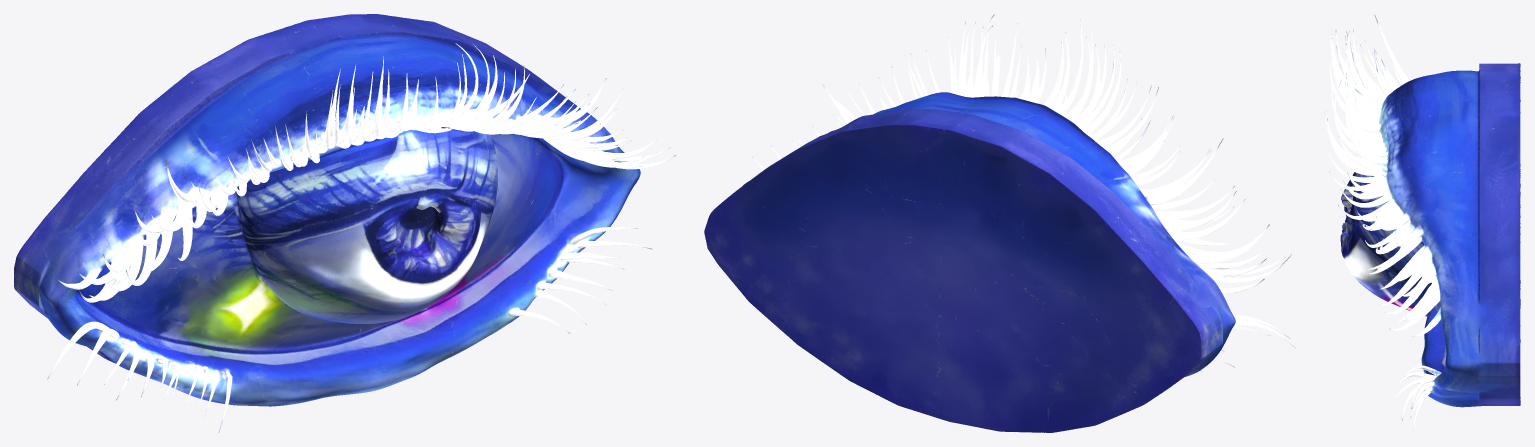
The model's file is eye.glb.
3 views of the same model, side by side, from view 1: azimuth 30°, elevation 25°; view 2: azimuth 150°, elevation 25°; view 3: azimuth 270°, elevation 25° (orthographic). The views are drawn at different scales.
Visible parts, largest first — view 1: mesh_node.010; view 2: mesh_node.010; view 3: mesh_node.010.
Boxes of the visible parts, box(x1,y1,x2,y2) form: mesh_node.010: box(14, 14, 675, 432); mesh_node.010: box(704, 14, 1295, 432); mesh_node.010: box(1324, 14, 1520, 432).
Bounding box in the file's own units: 1.7 × 1.03 × 0.5568.
Materials: 1 (1 with a texture image).
